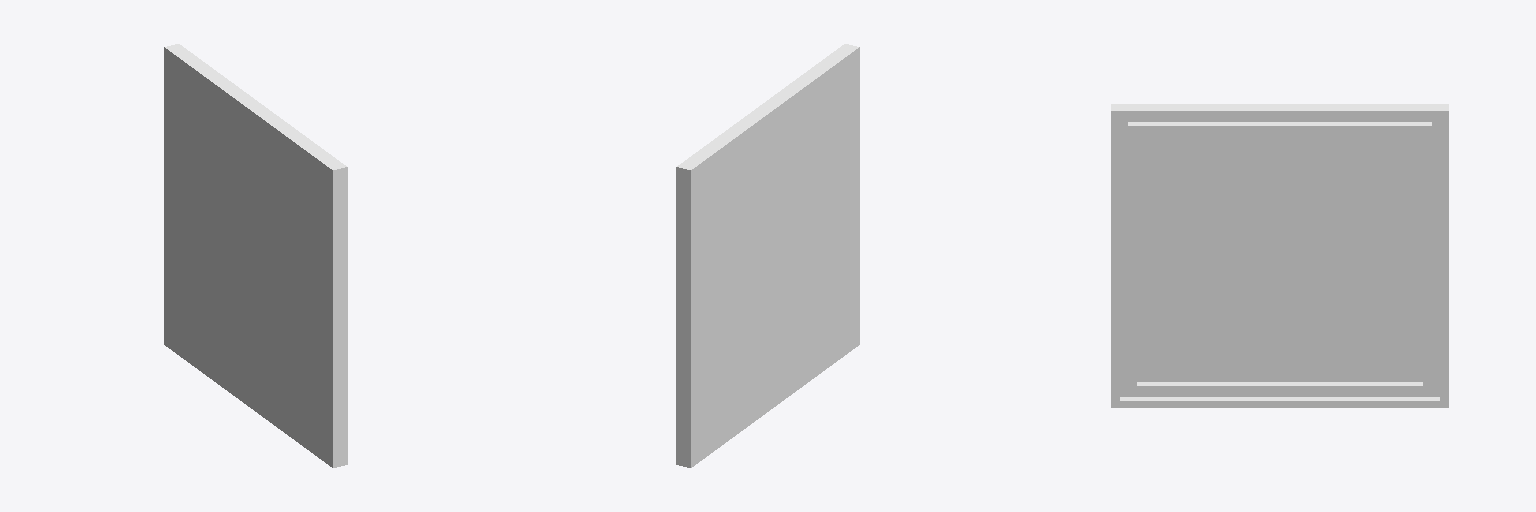
File: Painting-2.obj
3 views of the same model, side by side, from view 1: azimuth 30°, elevation 25°; view 2: azimuth 150°, elevation 25°; view 3: azimuth 270°, elevation 25° (orthographic).
Parts seen in each view (by area): view 1: Painting-2; view 2: Painting-2; view 3: Painting-2.
Part boxes in pixels (x1,y1,x2,y2): Painting-2: (164,44,347,467); Painting-2: (676,44,859,467); Painting-2: (1111,104,1448,407).
Size of the model in its own units: 2 by 39 by 40.